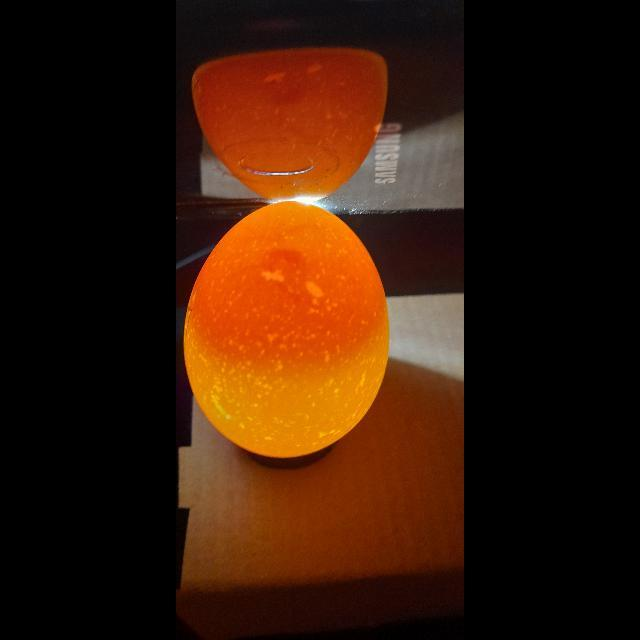Fertile: (181, 200, 395, 466)
